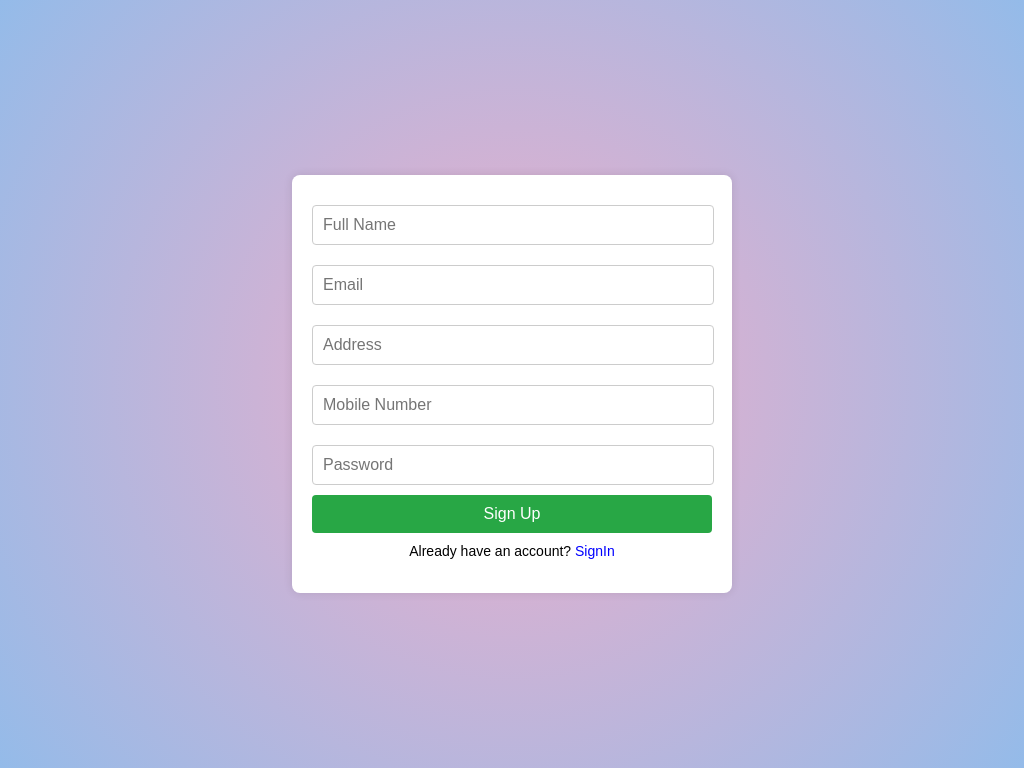
Scenario: SignUp Component › shows error messages for invalid inputs
Click the button "Sign Up".
click(512, 514)  # box [312,495,712,533]
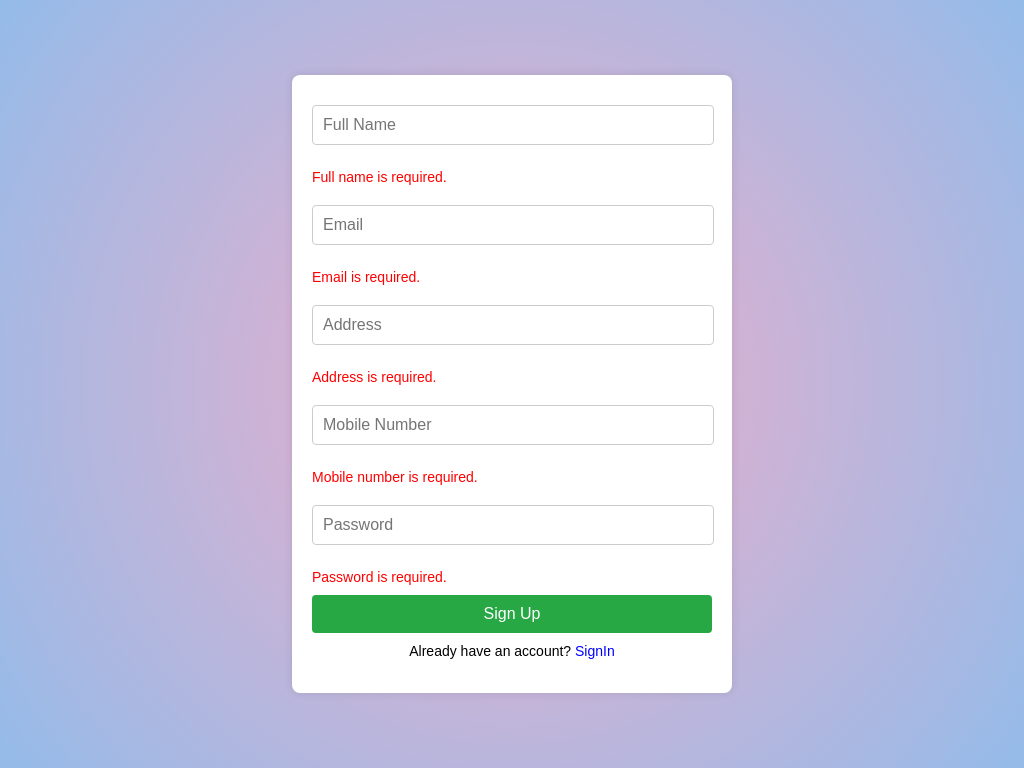
Check: the text "Full name is required." is shown, box [312,169,447,185]
Check: the text "Email is required." is shown, box [312,269,420,285]
Check: the text "Password is required." is shown, box [312,569,447,585]
